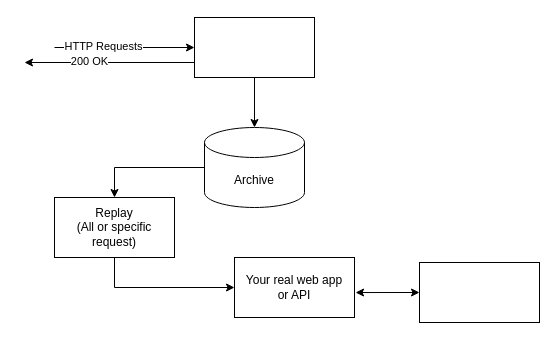
The diagram is 557 pixels wide and 340 high, and some of its shapes have lost their labels. Each missing label, with the centre of its shape:
"Real backend Infra" belongs at (479,292).
"Recorder (Blackhole)" belongs at (254,47).
